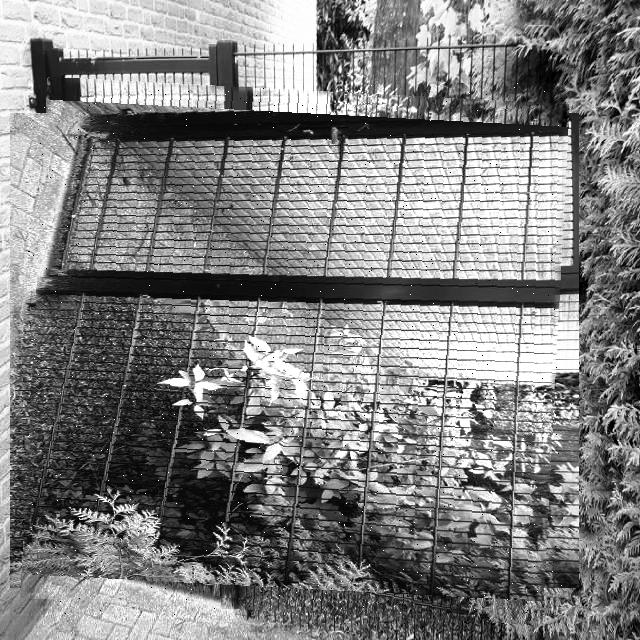fences: (27, 83, 562, 619)
